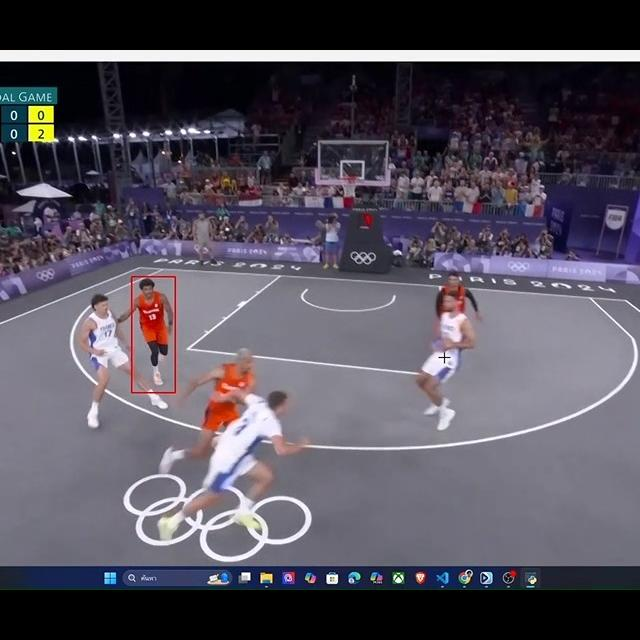hoop: (338, 174, 358, 200)
